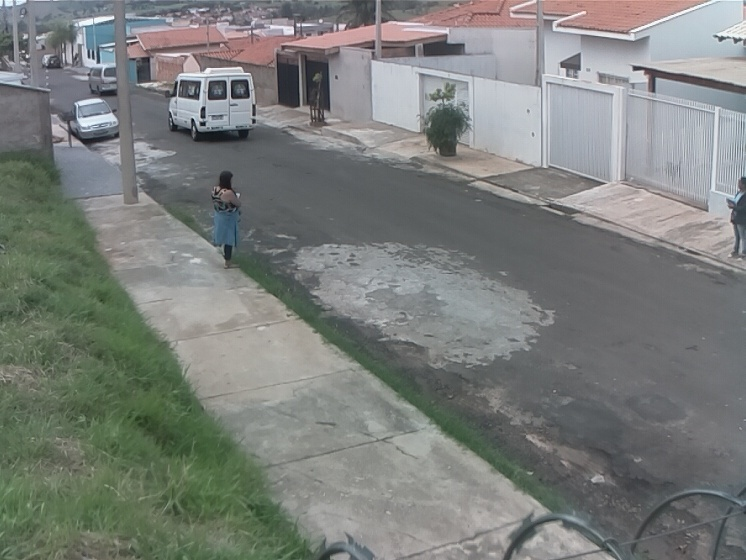person: (209, 168, 245, 272), (725, 174, 746, 263)
